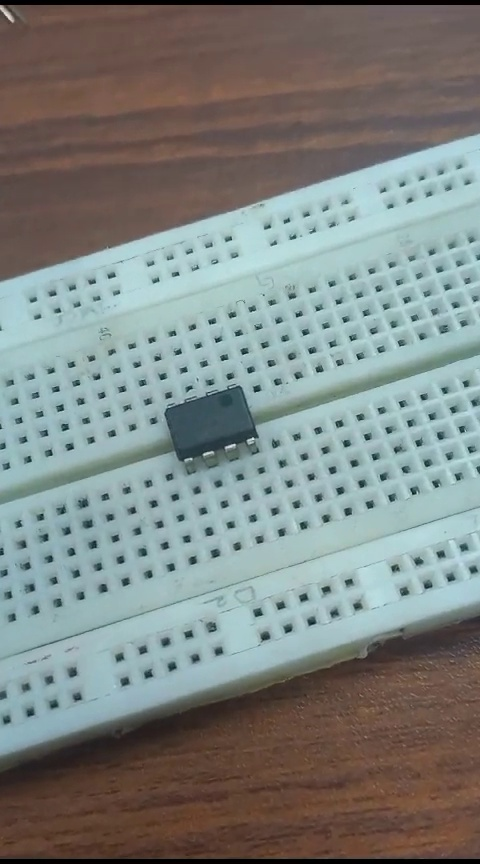IC: (150, 387, 270, 468)
